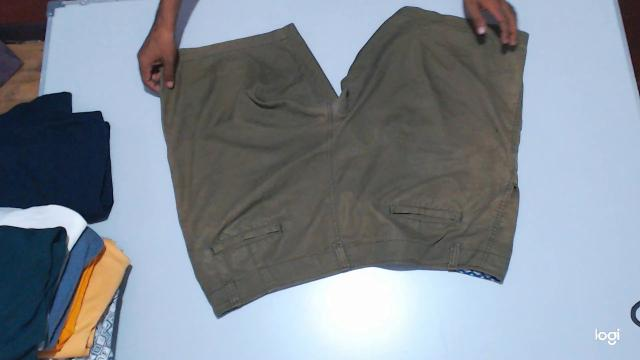new-garment: (160, 7, 527, 316)
